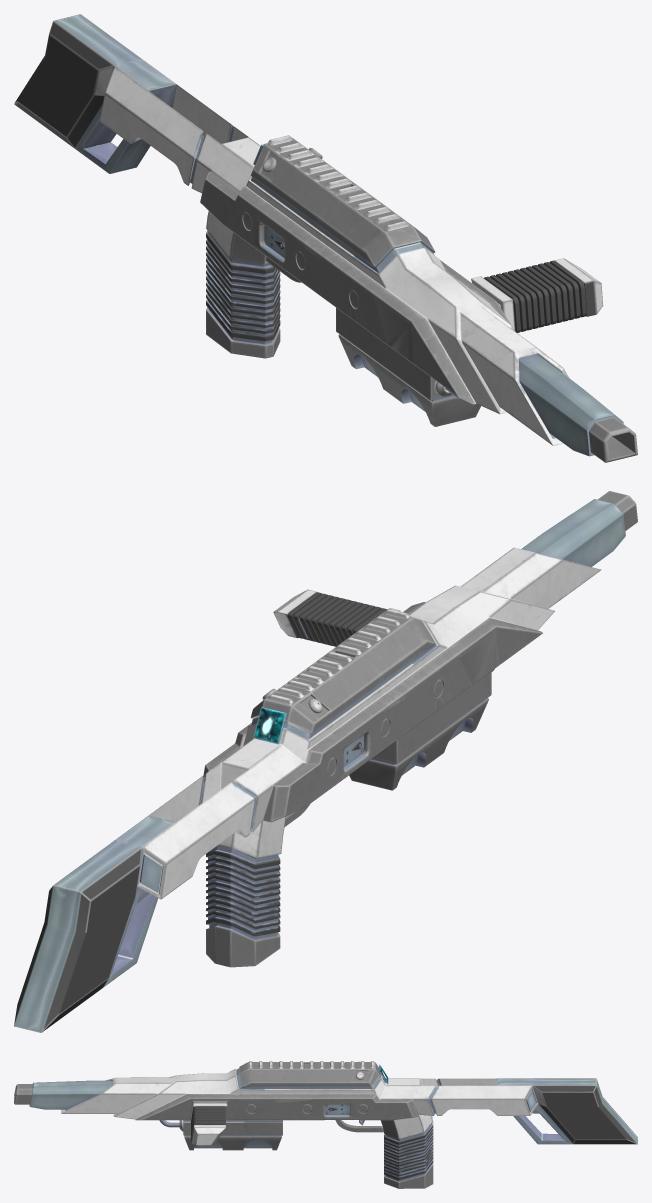
File: HeavyAssaultRifle.fbx
3 views of the same model, one above another, from view 1: azimuth 30°, elevation 25°; view 2: azimuth 150°, elevation 25°; view 3: azimuth 270°, elevation 25° (orthographic). The views are drawn at different scales.
Parts seen in each view (by area): view 1: Box.003, Box.004; view 2: Box.003, Box.004; view 3: Box.003, Box.004.
Boxes of the visible parts, x1,y1,x2,y2 form: Box.003: (14,14,637,462); Box.004: (484,260,586,332); Box.003: (14,491,637,1032); Box.004: (287,592,387,646); Box.003: (14,1061,637,1188); Box.004: (191,1106,225,1140).
Size of the model in its own units: 461 by 509 by 2417.
Materials: 1 (1 with a texture image).
